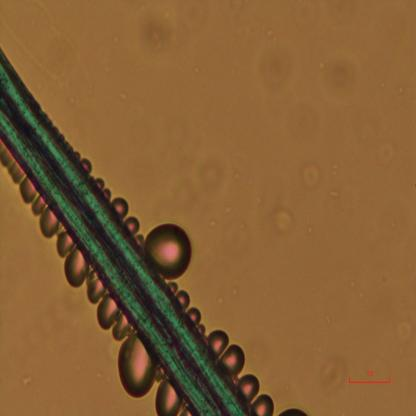Air bubble: (143, 222, 194, 280), (119, 331, 156, 399), (64, 246, 86, 291), (1, 147, 27, 184), (156, 377, 180, 414), (221, 342, 245, 376), (238, 370, 260, 404), (206, 330, 230, 360), (86, 273, 108, 305), (38, 209, 58, 239), (55, 230, 74, 258), (252, 392, 274, 415), (17, 179, 36, 203), (113, 198, 130, 218), (124, 215, 140, 235), (278, 404, 309, 414), (177, 289, 191, 310), (31, 196, 45, 216), (188, 307, 202, 325)
Background material: (247, 19, 302, 110), (150, 175, 201, 226), (34, 290, 78, 344), (135, 11, 176, 61), (290, 109, 328, 159), (320, 54, 356, 99), (98, 296, 131, 340), (196, 159, 228, 192), (320, 356, 347, 395), (297, 156, 321, 192), (273, 208, 298, 234), (376, 138, 396, 168), (395, 316, 416, 344), (327, 185, 343, 201), (119, 92, 133, 108), (22, 373, 34, 387), (224, 202, 232, 216)
Microfibre: (0, 48, 248, 414)
